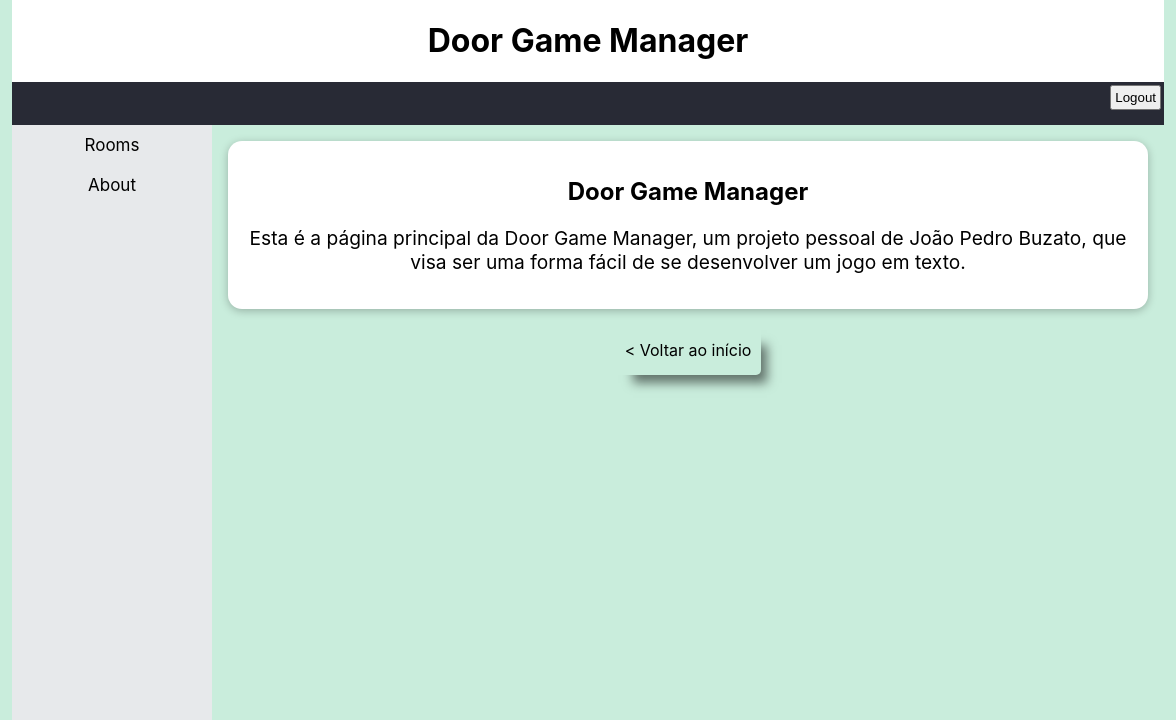
Test: App › should not render login when user is logged in
Expected: the 2nd heading "Door Game Manager" is shown, [568,177,808,206]
Step 1. Click the button "Rooms" → (112, 145), box [12,125,212,165]
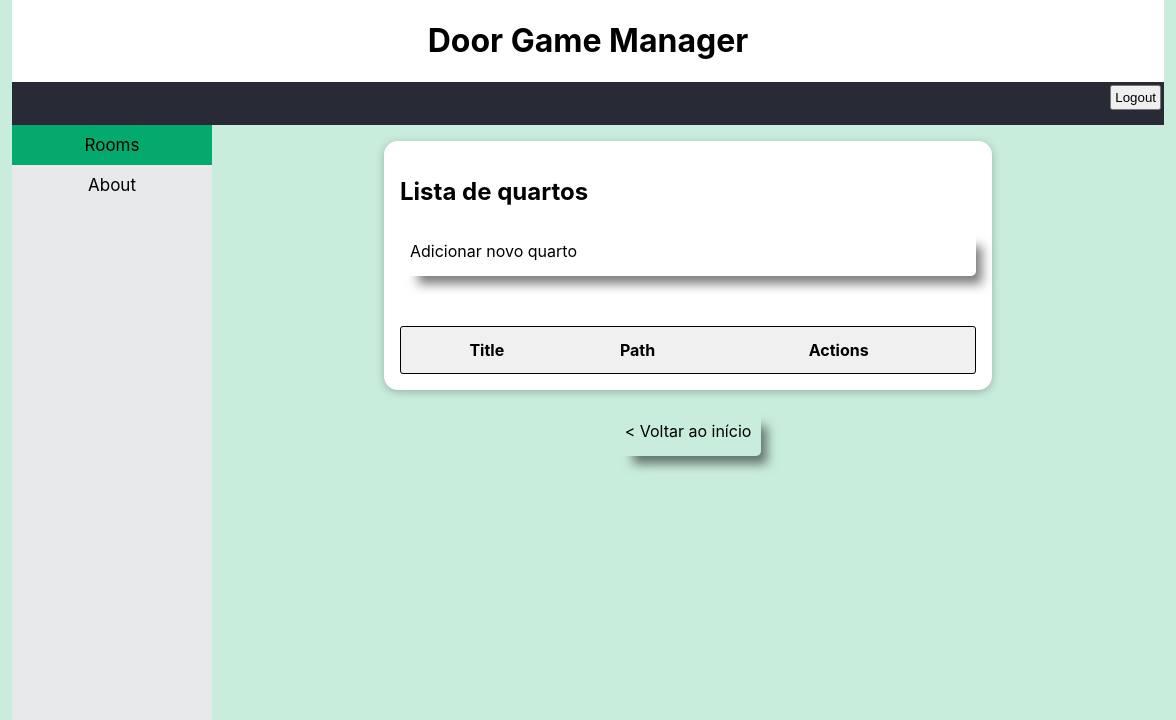
Expected: the heading "Lista de quartos" is shown, [400,177,588,206]
